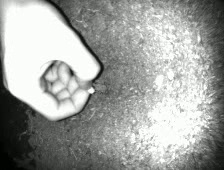corn: (152, 72, 165, 86), (85, 84, 97, 95)
